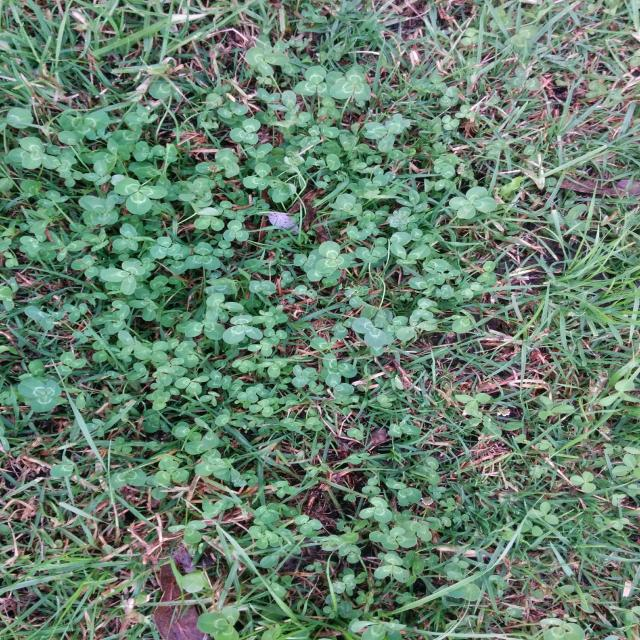Four Leaf Clover: (448, 186, 497, 219)
